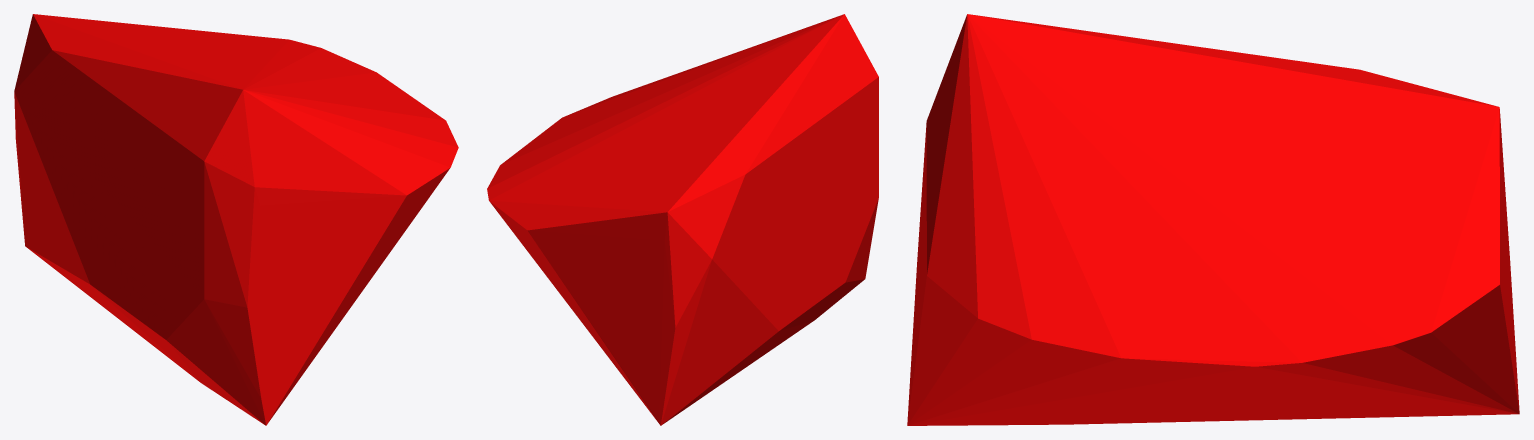
The model's file is tip_006_2_convex_hull_07.obj.
3 views of the same model, side by side, from view 1: azimuth 30°, elevation 25°; view 2: azimuth 150°, elevation 25°; view 3: azimuth 270°, elevation 25° (orthographic). The views are drawn at different scales.
Parts seen in each view (by area): view 1: tip_006_2_convex_hull_07; view 2: tip_006_2_convex_hull_07; view 3: tip_006_2_convex_hull_07.
Part boxes in pixels (x1=…): tip_006_2_convex_hull_07: x1=14, y1=14, x2=458, y2=425; tip_006_2_convex_hull_07: x1=487, y1=14, x2=878, y2=425; tip_006_2_convex_hull_07: x1=907, y1=14, x2=1519, y2=425.
Size of the model in its own units: 0.00139 by 0.00139 by 0.00187.
